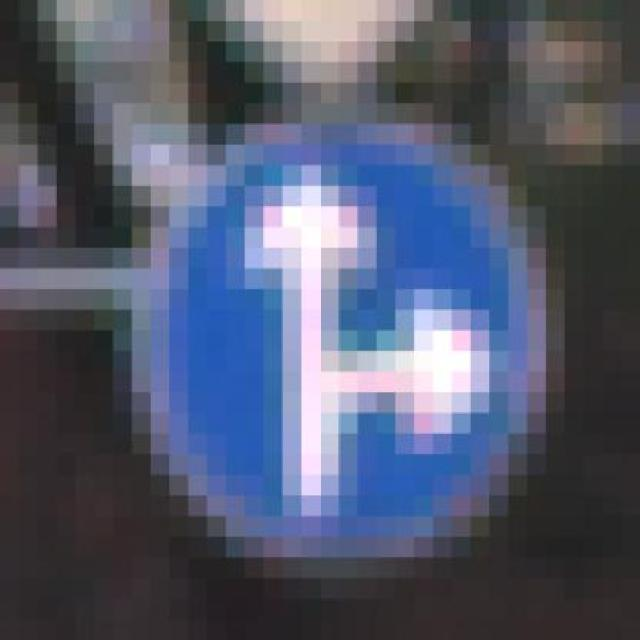Go Straight or Turn Right: (112, 82, 565, 578)
